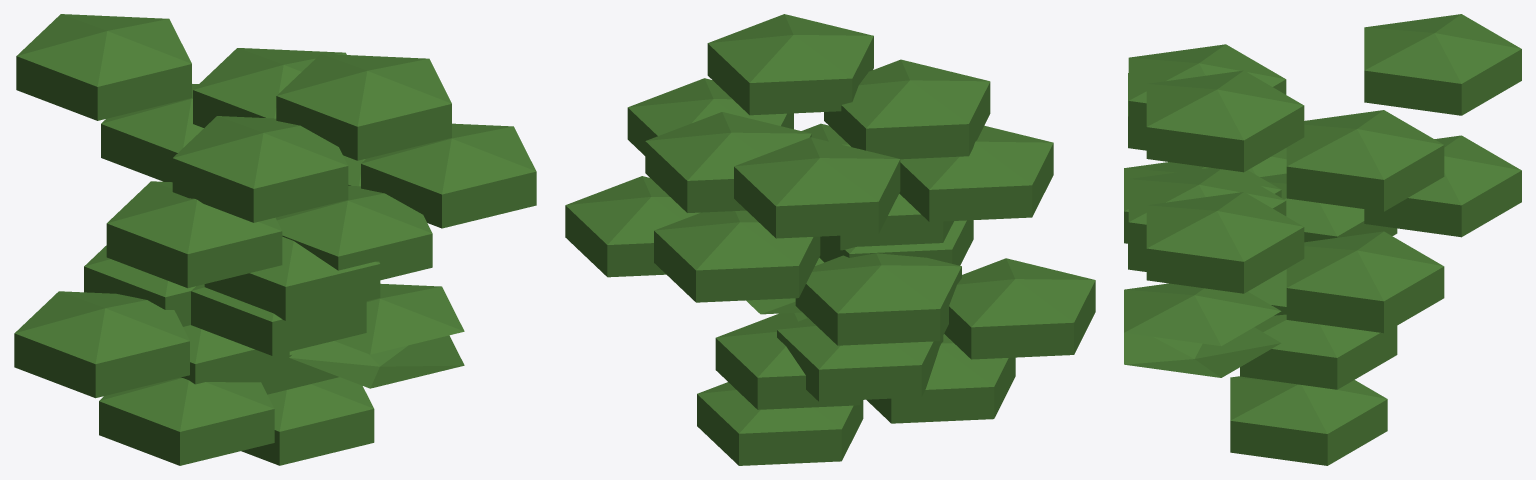
File: nature_bamboo_a_lod1.glb
3 views of the same model, side by side, from view 1: azimuth 30°, elevation 25°; view 2: azimuth 150°, elevation 25°; view 3: azimuth 270°, elevation 25° (orthographic). The views are drawn at different scales.
Visible parts, largest first — view 1: nature_bamboo_a_lod1; view 2: nature_bamboo_a_lod1; view 3: nature_bamboo_a_lod1.
Part boxes in pixels (x1=…): nature_bamboo_a_lod1: x1=14, y1=14, x2=536, y2=465; nature_bamboo_a_lod1: x1=565, y1=14, x2=1095, y2=465; nature_bamboo_a_lod1: x1=1124, y1=14, x2=1521, y2=465.
Size of the model in its own units: 2.88 by 2.25 by 2.18.
